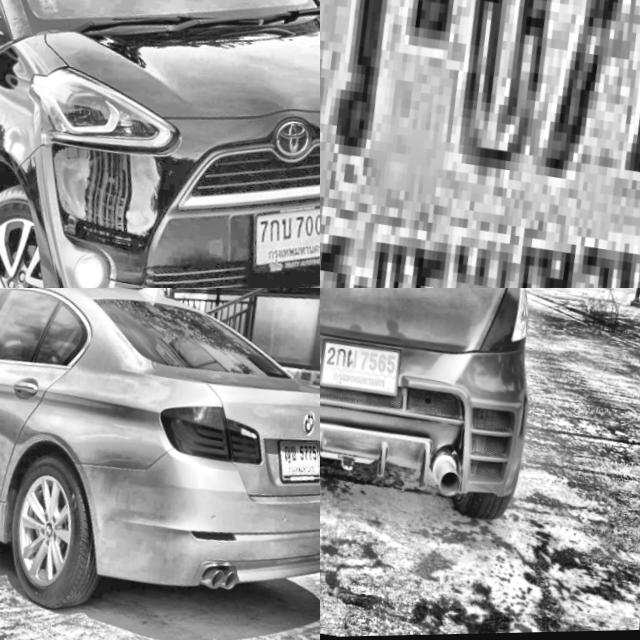license-plate: (320, 0, 640, 288), (232, 189, 320, 288), (320, 334, 400, 398), (263, 433, 320, 491)
